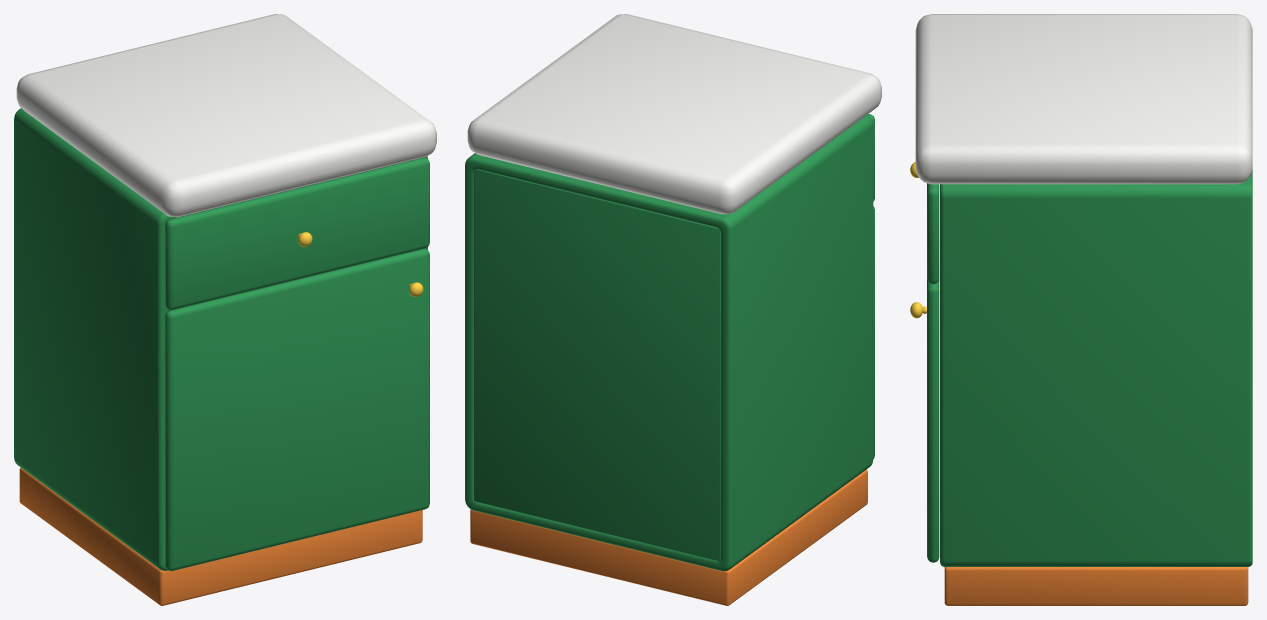
File: armario_cozinha_base_gaveta_porta_verde.glb
3 renders of one model, left to right at view 1: azimuth 30°, elevation 25°; view 2: azimuth 150°, elevation 25°; view 3: azimuth 270°, elevation 25°, orthographic. The views are drawn at different scales.
Visible parts, largest first — view 1: armario_cozinha_base_gaveta_porta_verde, porta_1, gaveta_1; view 2: armario_cozinha_base_gaveta_porta_verde; view 3: armario_cozinha_base_gaveta_porta_verde, porta_1, gaveta_1.
Boxes of the visible parts, <box> form: armario_cozinha_base_gaveta_porta_verde: <box>14,14,436,605</box>; porta_1: <box>165,249,429,570</box>; gaveta_1: <box>165,157,429,309</box>; armario_cozinha_base_gaveta_porta_verde: <box>465,14,881,605</box>; armario_cozinha_base_gaveta_porta_verde: <box>915,14,1252,605</box>; porta_1: <box>910,279,939,562</box>; gaveta_1: <box>910,162,939,284</box>.
Size of the model in its own units: 0.598 by 0.9 by 0.609.
1 material, 1 textured.
